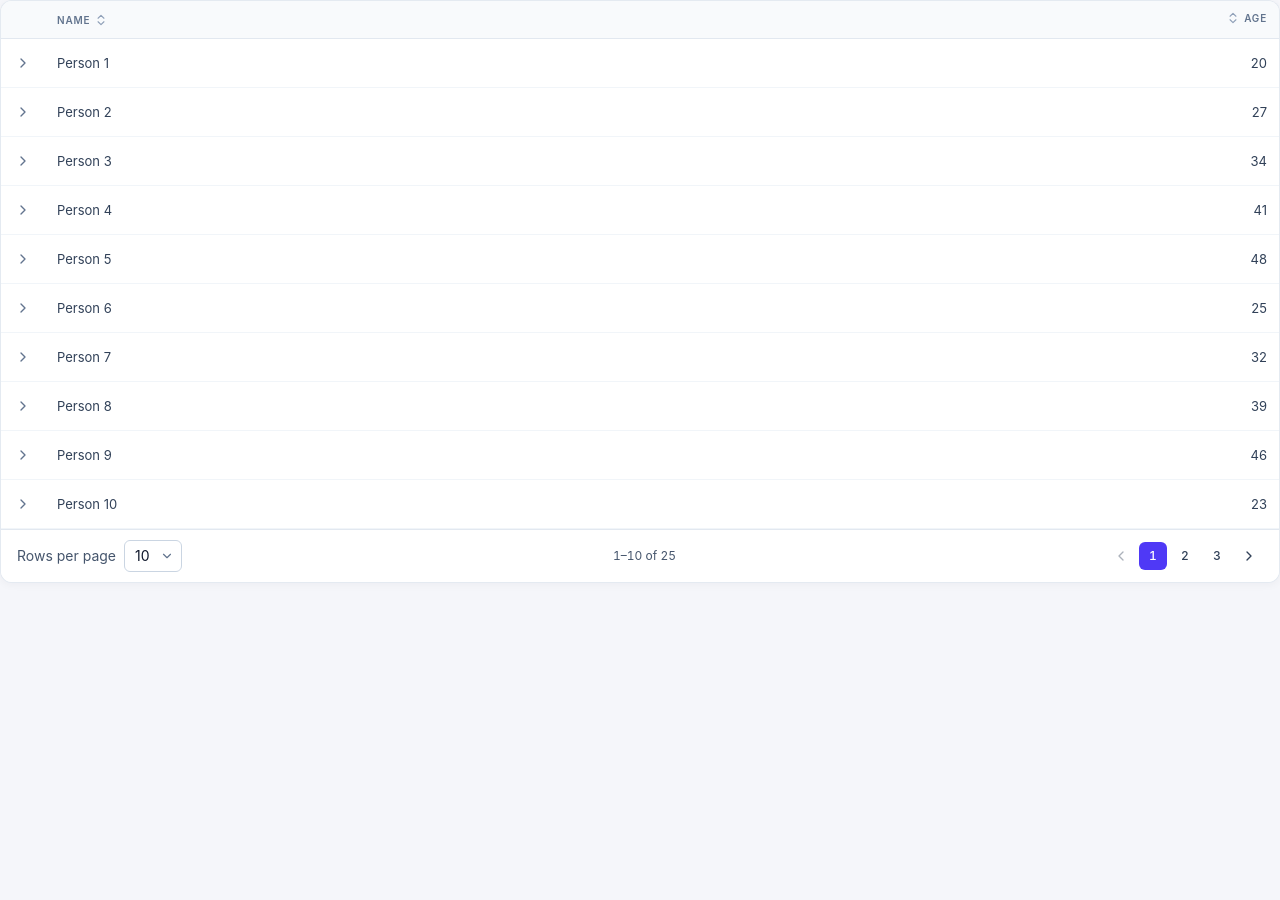
Test case: DataTable › opens inline child rows, and shows the empty text for rows without children
Click the button named "Show details for Person 1". click: (23, 63)
box: [9,49,37,77]
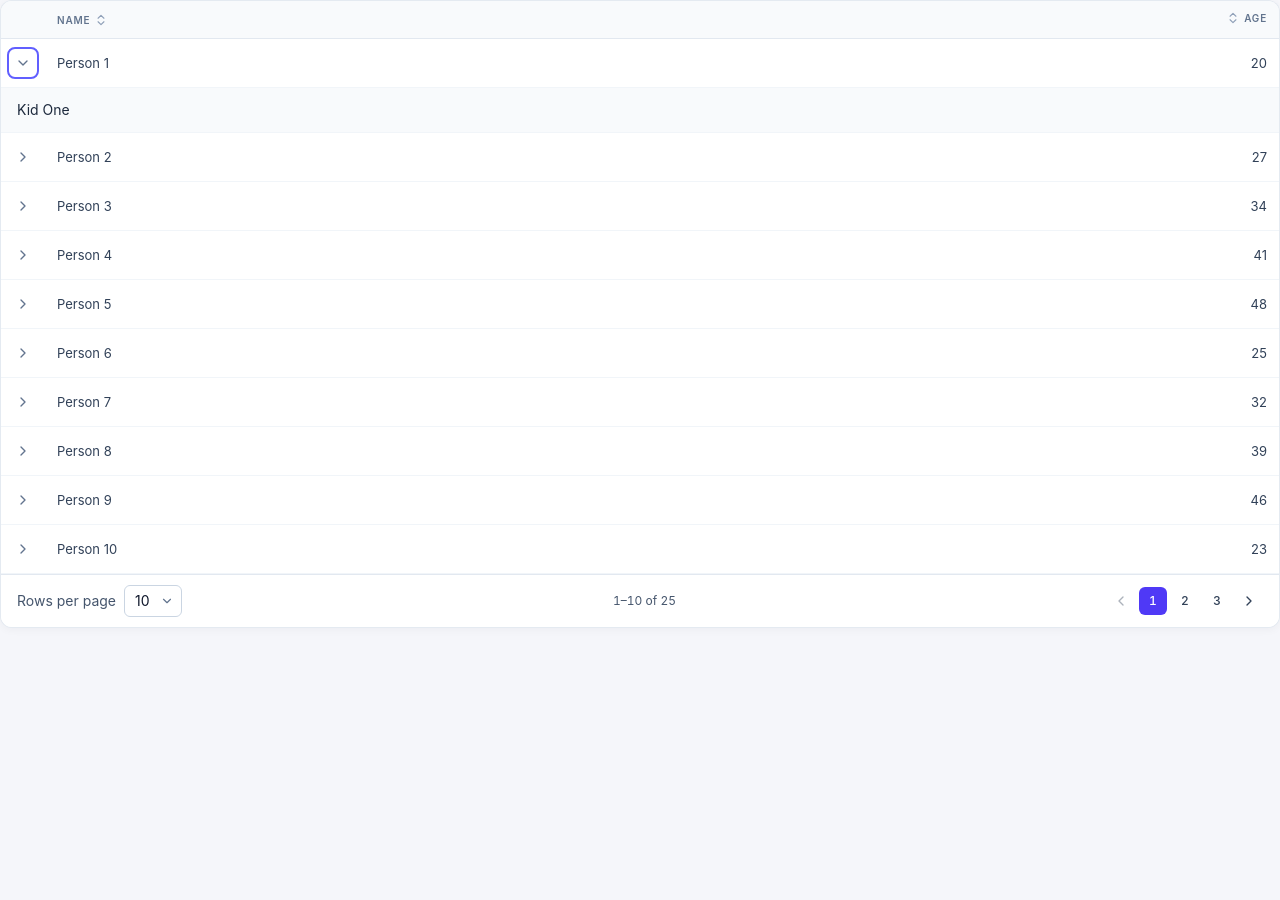
Expected: the button named "Show details for Person 1" is expanded
Expected: the button "Kid One" is shown, [17,100,70,120]
Click the button named "Show details for Person 1". click: (23, 63)
box: [9,49,37,77]
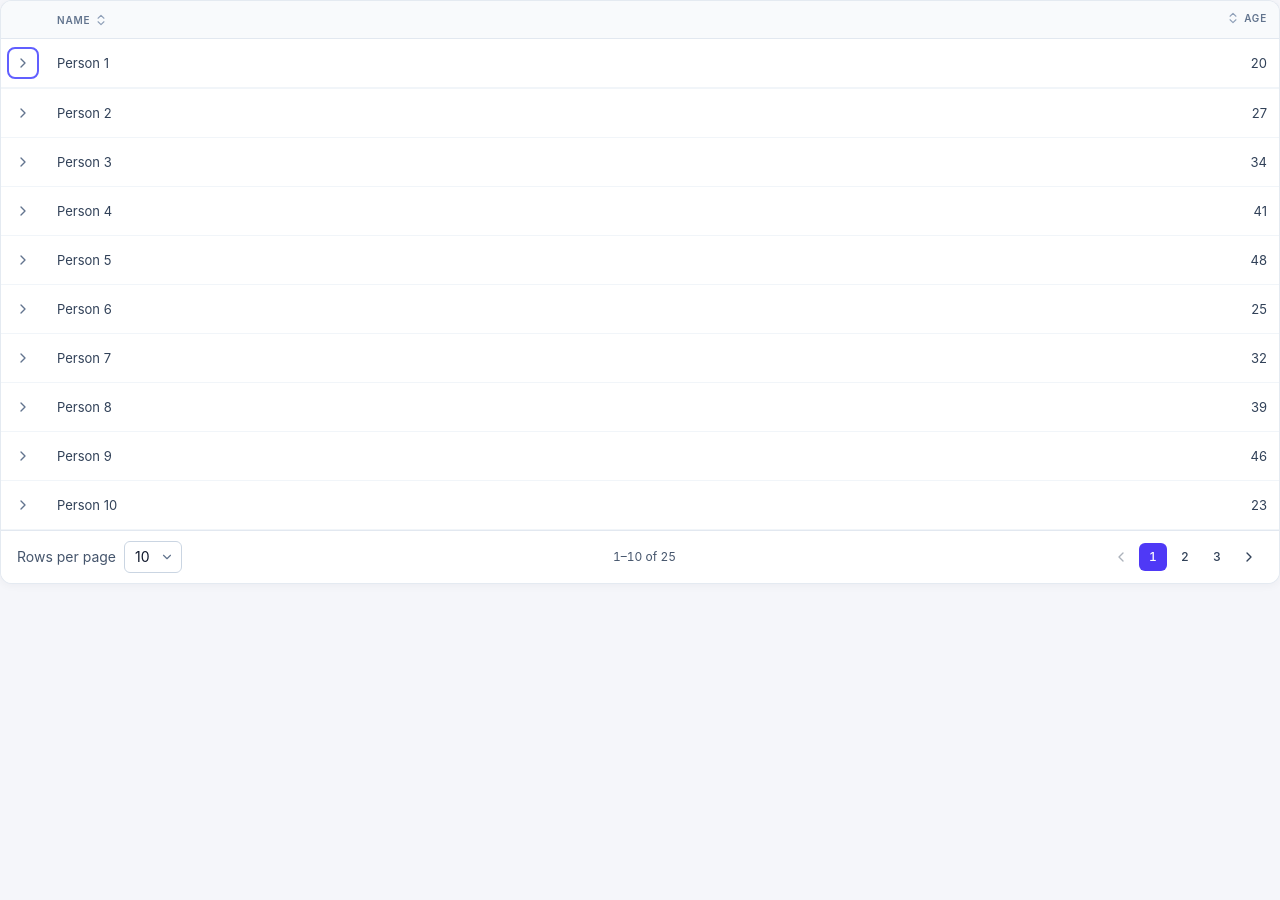
Click the button named "Show details for Person 1". click: (23, 63)
box: [9,49,37,77]
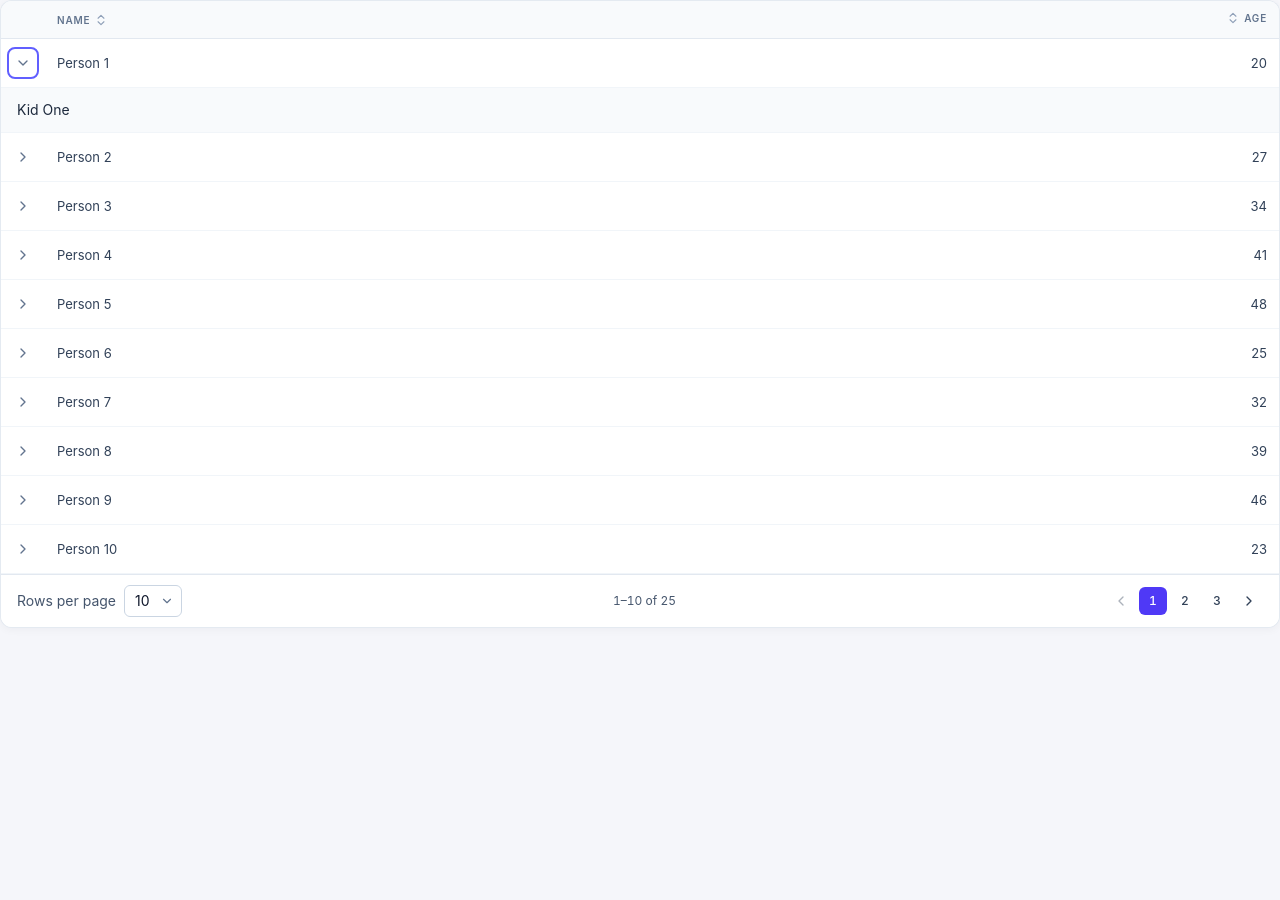
Click the button named "Show details for Person 2". click: (23, 157)
box: [9,143,37,171]
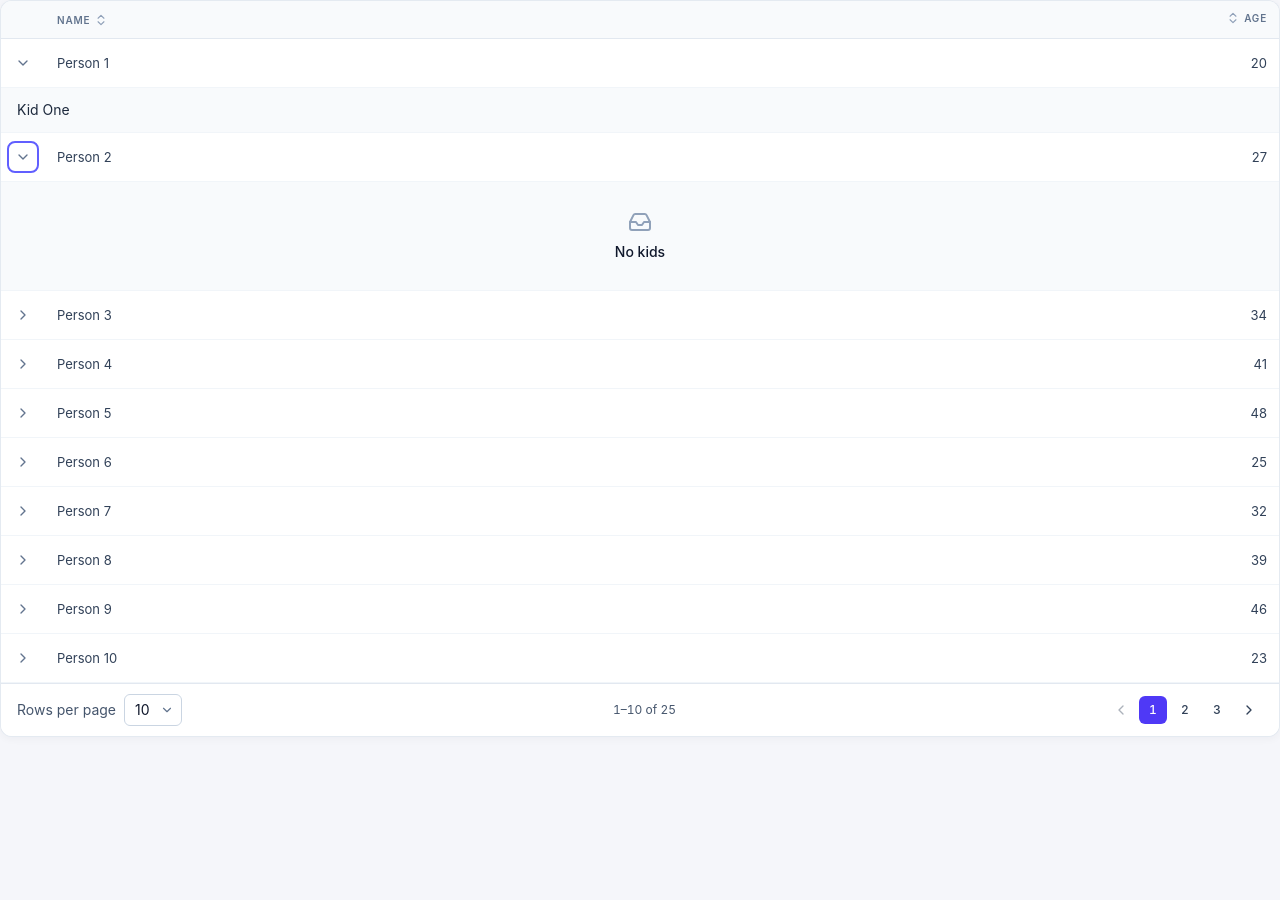
Expected: the text "No kids" is shown, [615,242,665,262]
